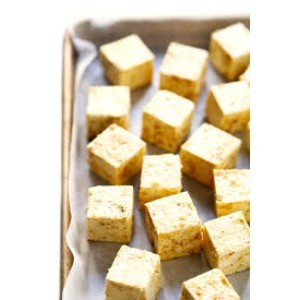tofu_brain food: (87, 51, 246, 258)
